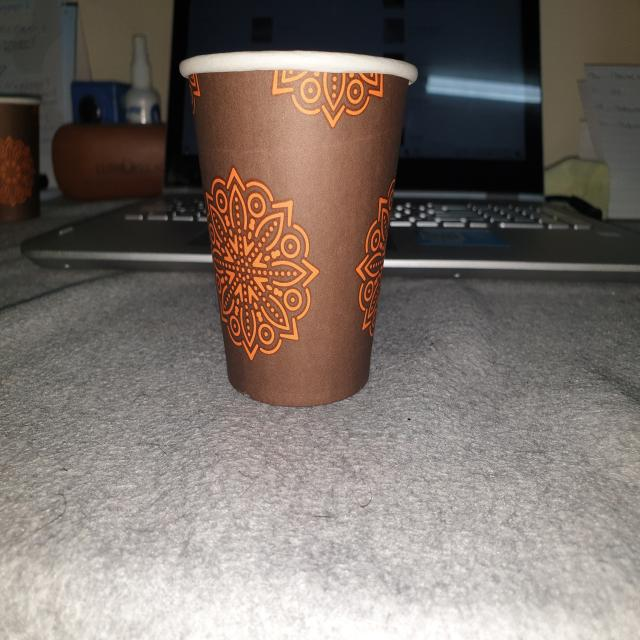cups: (165, 31, 426, 426)
